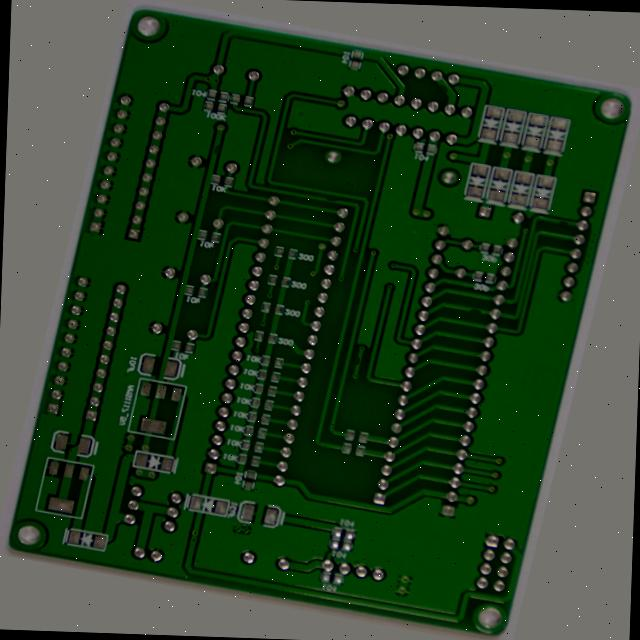mouse_bite: (490, 276, 514, 291), (573, 166, 595, 180), (147, 138, 161, 156), (292, 180, 314, 191), (369, 351, 384, 367)
